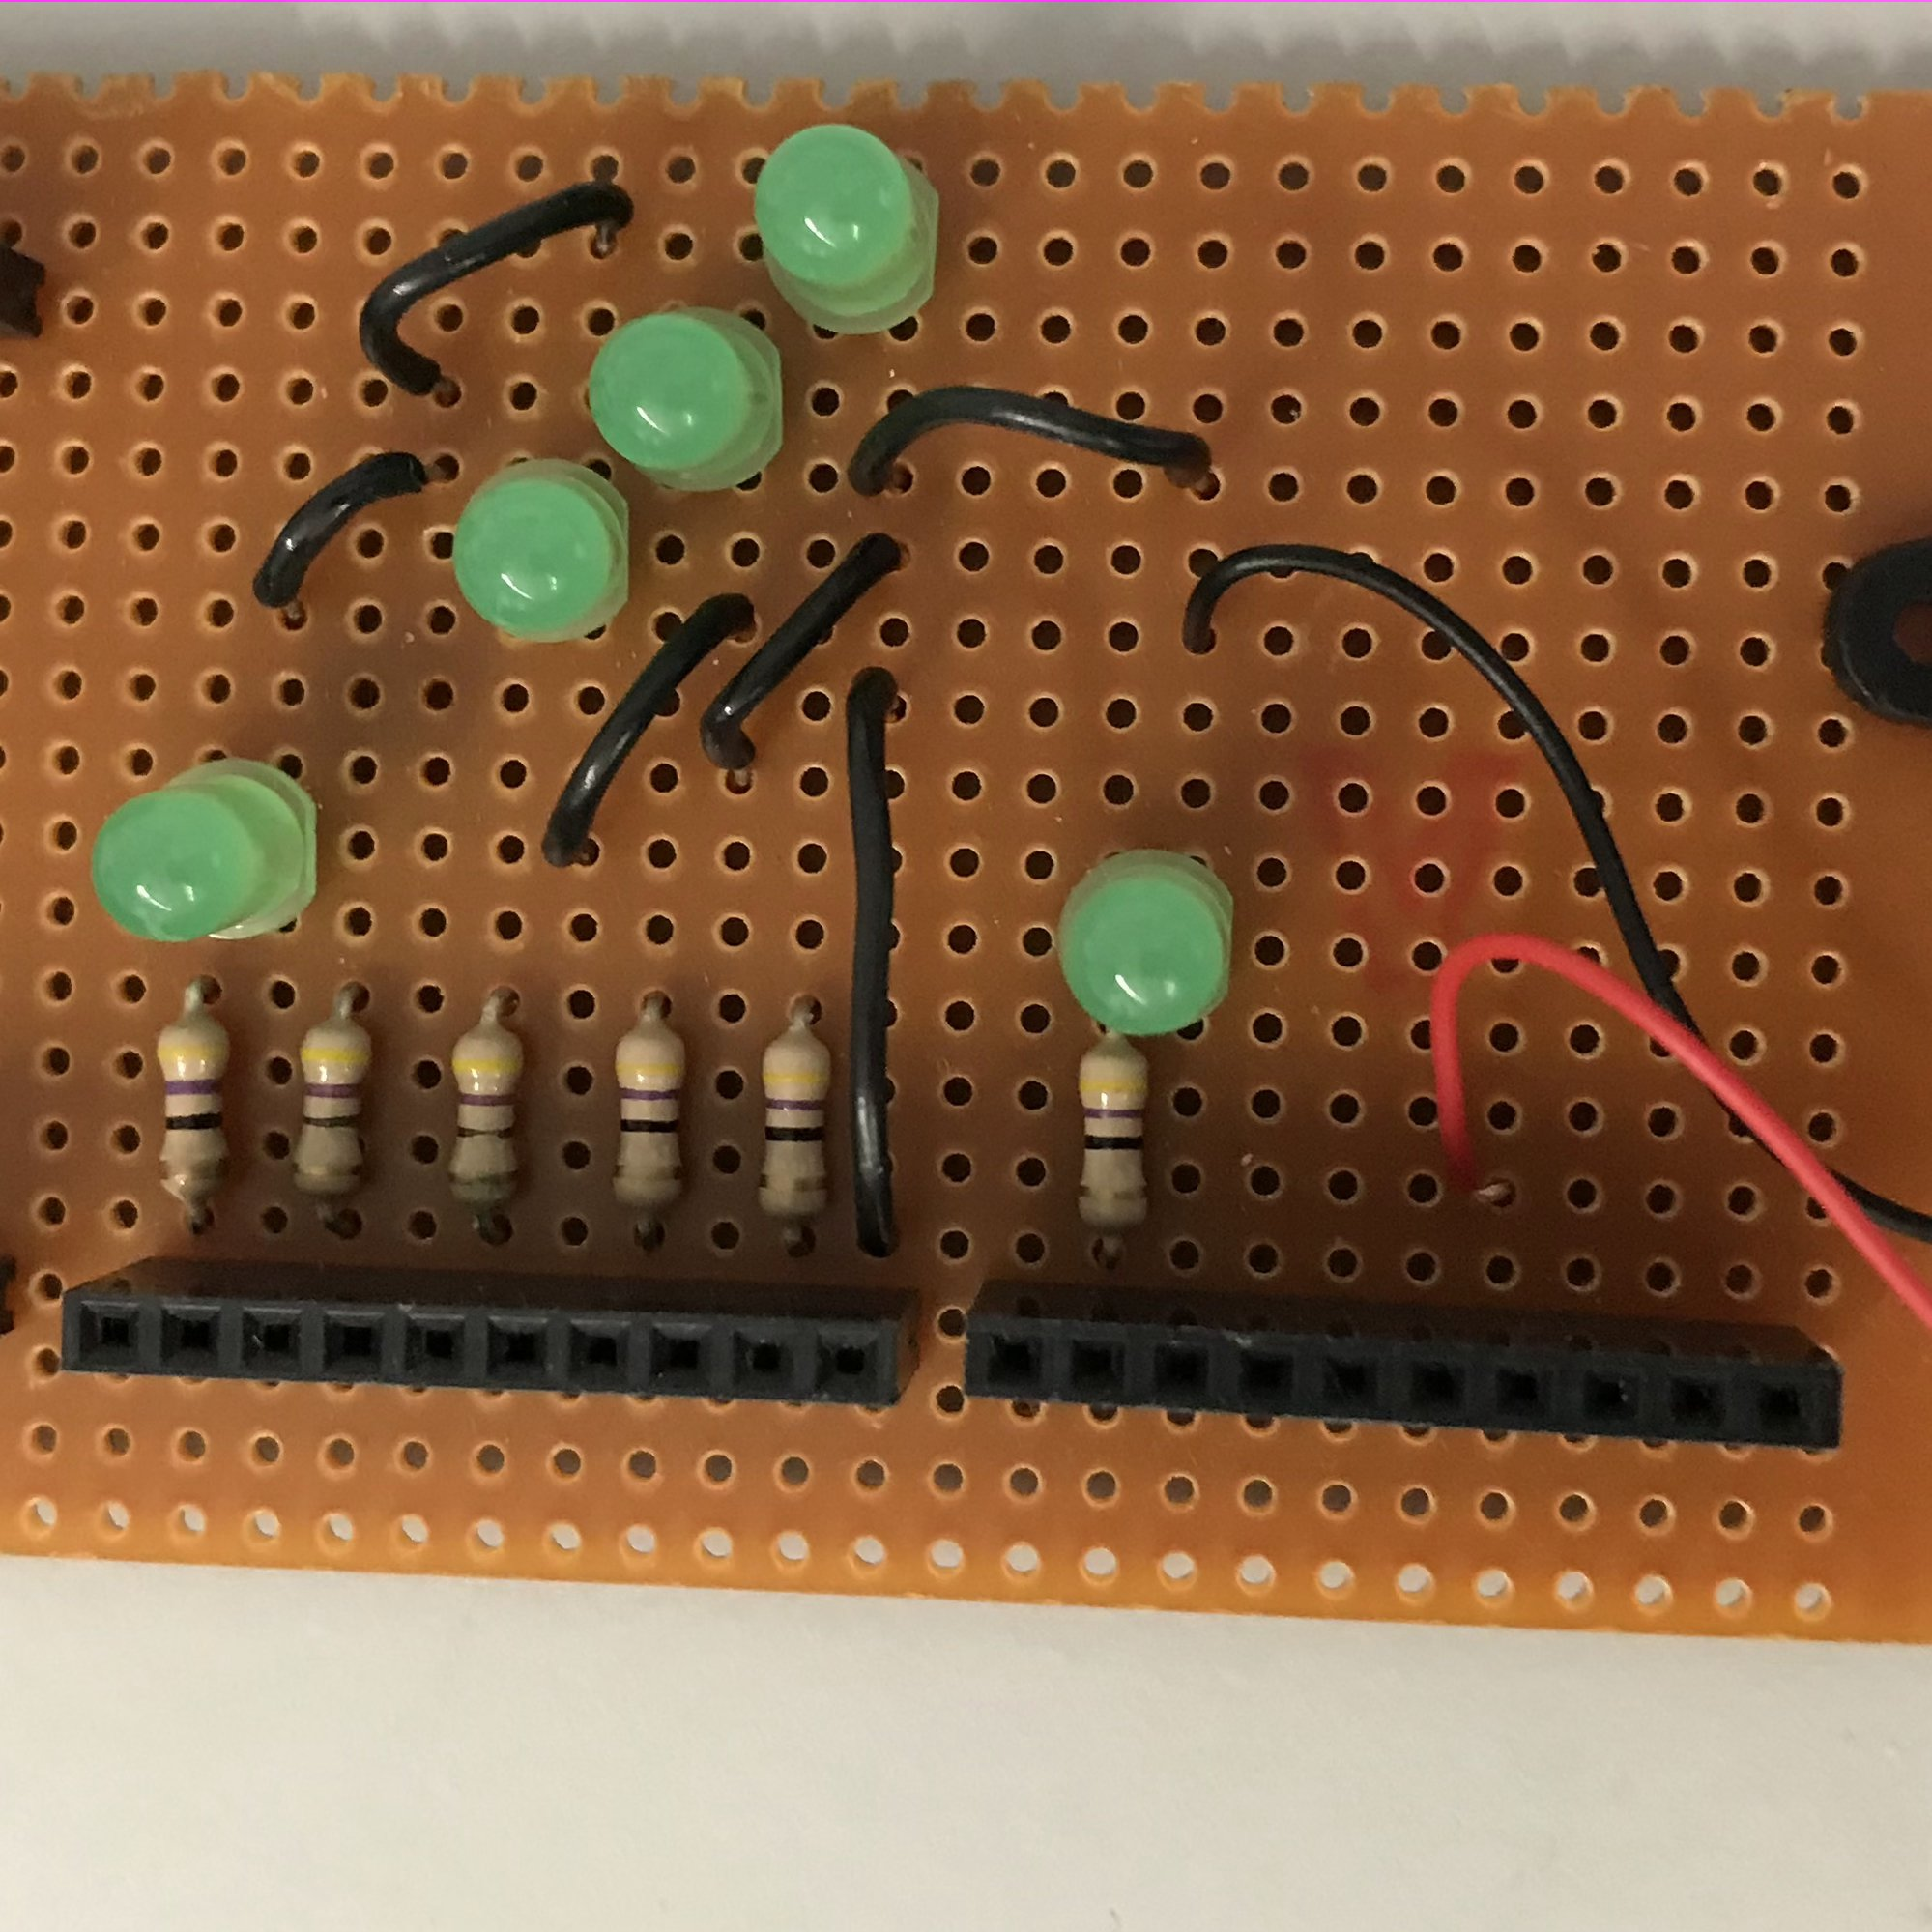LED: (83, 748, 320, 957), (748, 113, 948, 340), (584, 297, 789, 497), (448, 451, 639, 649), (1049, 844, 1237, 1044)
Resistor: (1063, 1037, 1164, 1254), (748, 1019, 839, 1235), (145, 1005, 239, 1208), (437, 1014, 531, 1215), (610, 1014, 695, 1228), (290, 1007, 375, 1214)
